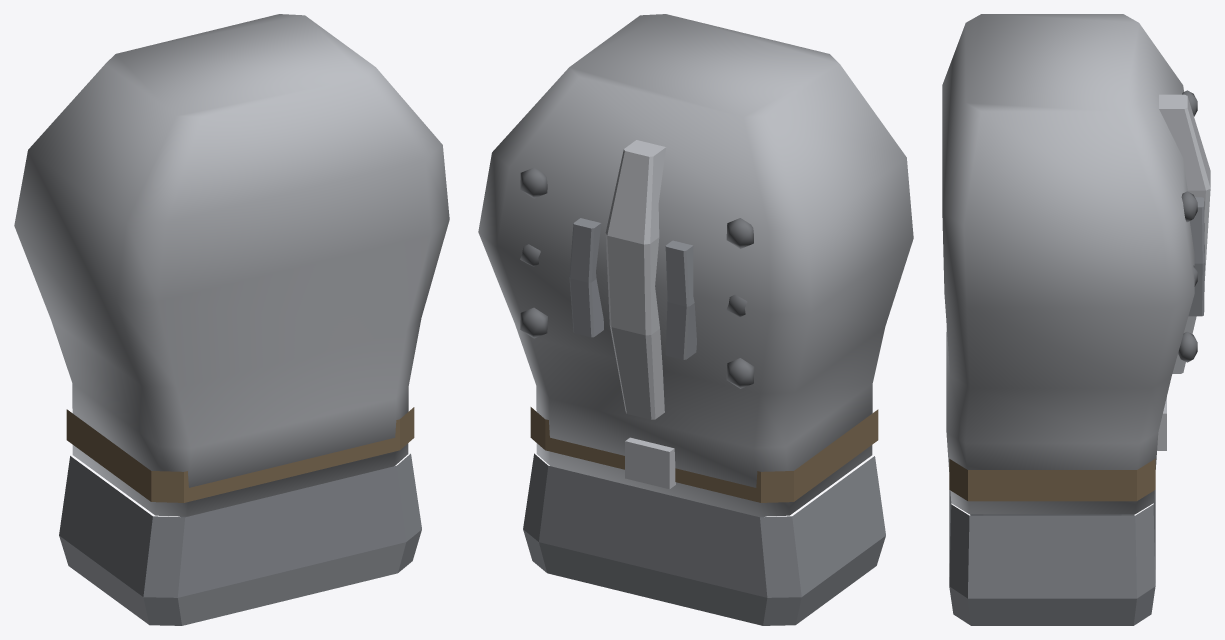
3 renders of one model, left to right at view 1: azimuth 30°, elevation 25°; view 2: azimuth 150°, elevation 25°; view 3: azimuth 270°, elevation 25°, orthographic.
Visible parts, largest first — view 1: iron_cuirass; view 2: iron_cuirass; view 3: iron_cuirass.
Part boxes in pixels (bbox=[...]): iron_cuirass: bbox=[14, 14, 449, 625]; iron_cuirass: bbox=[478, 14, 913, 625]; iron_cuirass: bbox=[942, 14, 1210, 625].
Bounding box in the file's own units: 0.448 × 0.64 × 0.312.
